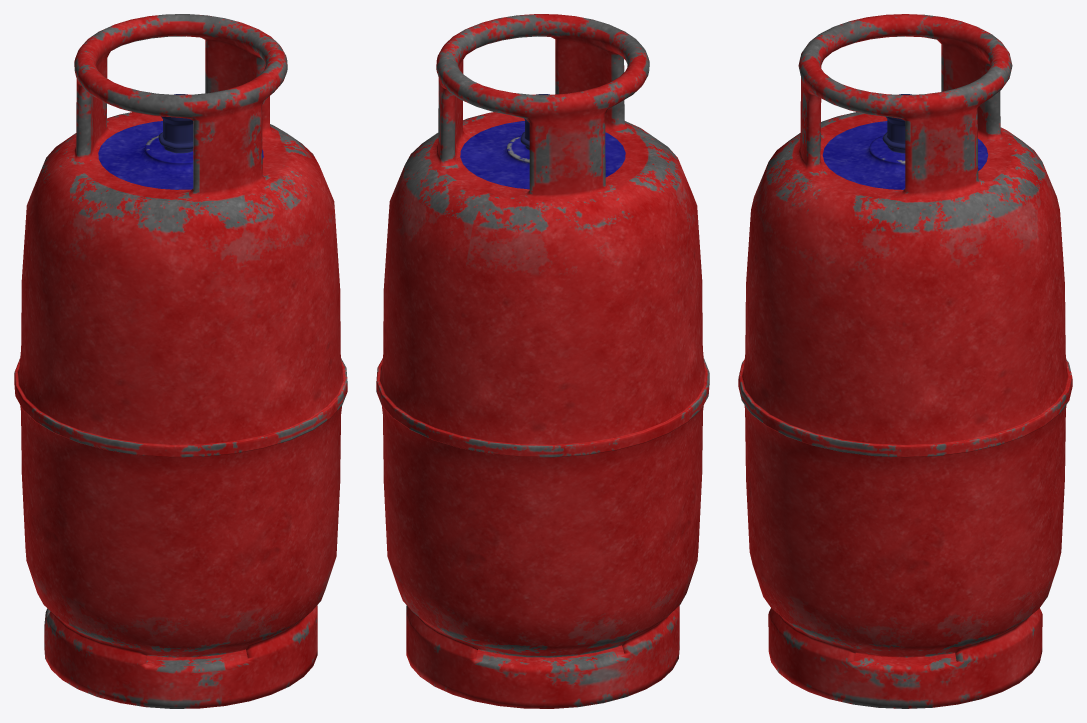
File: GasBarrel.fbx
The picture shows the model from 3 angles, left to right: view 1: azimuth 30°, elevation 25°; view 2: azimuth 150°, elevation 25°; view 3: azimuth 270°, elevation 25°; orthographic projection.
Parts seen in each view (by area): view 1: Gas_low; view 2: Gas_low; view 3: Gas_low.
Part boxes in pixels (box(x1,y1,x2,y2)): Gas_low: box(14, 14, 347, 708); Gas_low: box(376, 14, 709, 708); Gas_low: box(738, 14, 1072, 708).
Size of the model in its own units: 4.35 by 8.59 by 4.35.
3 materials, 3 textured.
